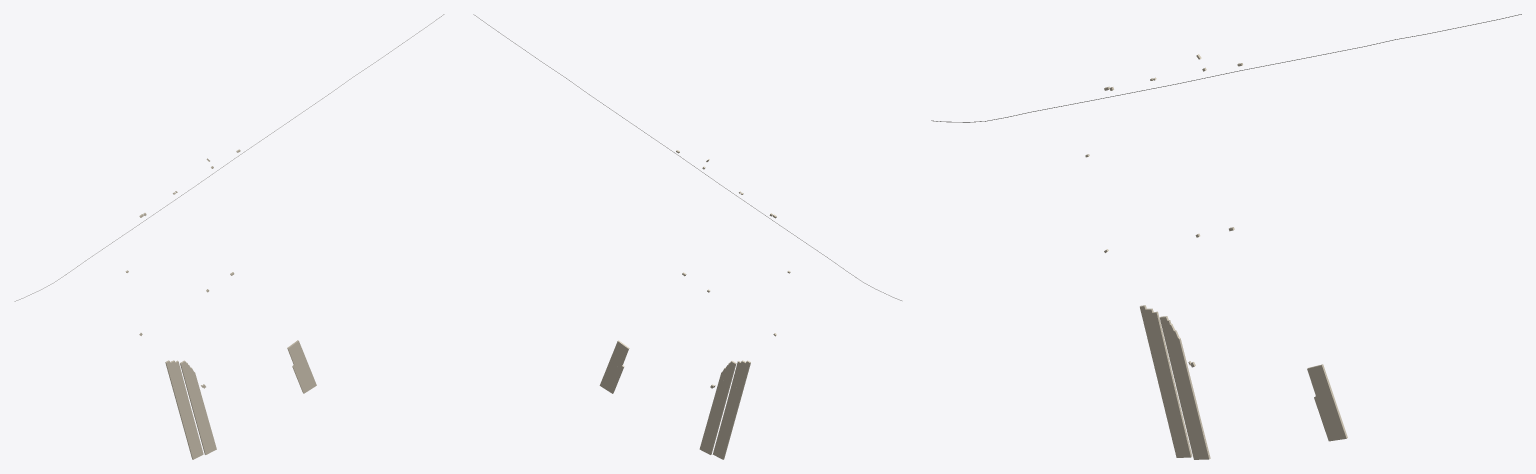
Rendered from historic-palestine-14_28_3558_3225.glb.
3 renders of one model, left to right at view 1: azimuth 30°, elevation 25°; view 2: azimuth 150°, elevation 25°; view 3: azimuth 330°, elevation 25°, orthographic. The views are drawn at different scales.
Visible parts, largest first — view 1: Building_.002, Building_.003, Building_.004, Road; view 2: Building_.002, Building_.003, Building_.004; view 3: Building_.002, Building_.003, Building_.004, Road.
Boxes of the visible parts, bbox=[...] form: Building_.002: bbox=[165, 360, 203, 459]; Building_.003: bbox=[180, 360, 216, 454]; Building_.004: bbox=[287, 340, 316, 393]; Road: bbox=[14, 14, 444, 301]; Building_.002: bbox=[712, 360, 750, 459]; Building_.003: bbox=[699, 361, 736, 454]; Building_.004: bbox=[599, 340, 629, 393]; Building_.002: bbox=[1140, 305, 1192, 457]; Building_.003: bbox=[1159, 316, 1210, 459]; Building_.004: bbox=[1307, 364, 1347, 441]; Road: bbox=[931, 14, 1521, 122].
Size of the model in its own units: 1839 by 1571 by 8.7.
